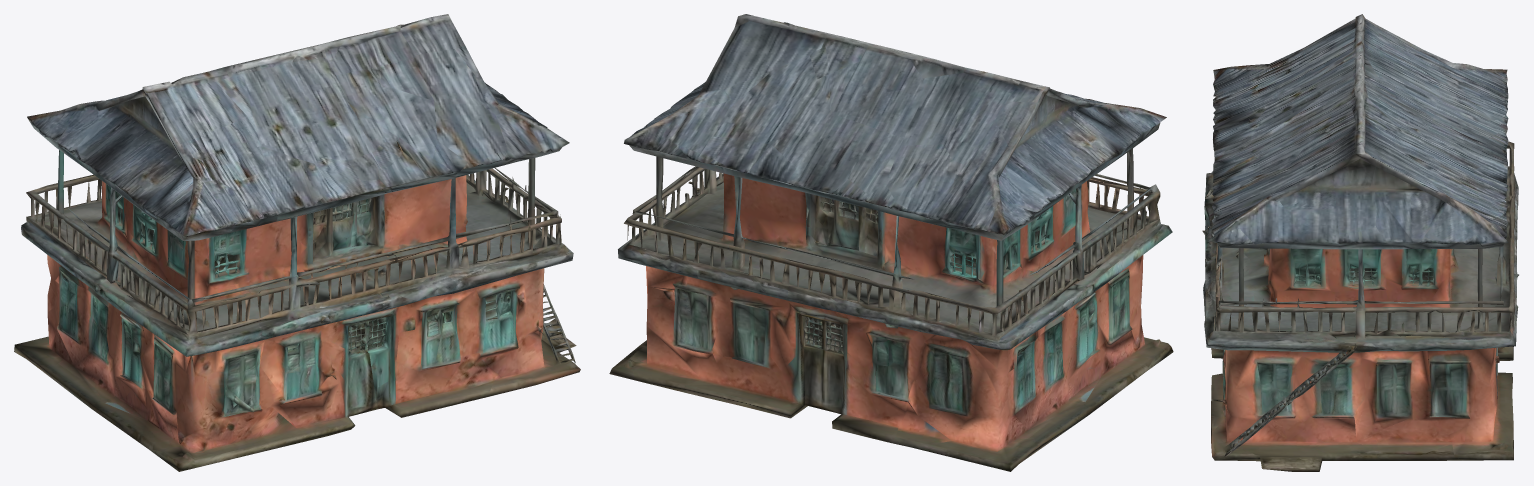
File: customs-office.glb
The picture shows the model from 3 angles, left to right: view 1: azimuth 30°, elevation 25°; view 2: azimuth 150°, elevation 25°; view 3: azimuth 270°, elevation 25°; orthographic projection. The views are drawn at different scales.
Visible parts, largest first — view 1: tripo_node_0da6feeb-be5e-419e-aee5-fd16c35e3bf8; view 2: tripo_node_0da6feeb-be5e-419e-aee5-fd16c35e3bf8; view 3: tripo_node_0da6feeb-be5e-419e-aee5-fd16c35e3bf8.
Part boxes in pixels (x1,y1,x2,y2): tripo_node_0da6feeb-be5e-419e-aee5-fd16c35e3bf8: (14, 14, 580, 471); tripo_node_0da6feeb-be5e-419e-aee5-fd16c35e3bf8: (609, 14, 1173, 471); tripo_node_0da6feeb-be5e-419e-aee5-fd16c35e3bf8: (1202, 14, 1518, 471).
Bounding box in the file's own units: 0.965 × 0.6788 × 0.6772.
1 material, 1 textured.
